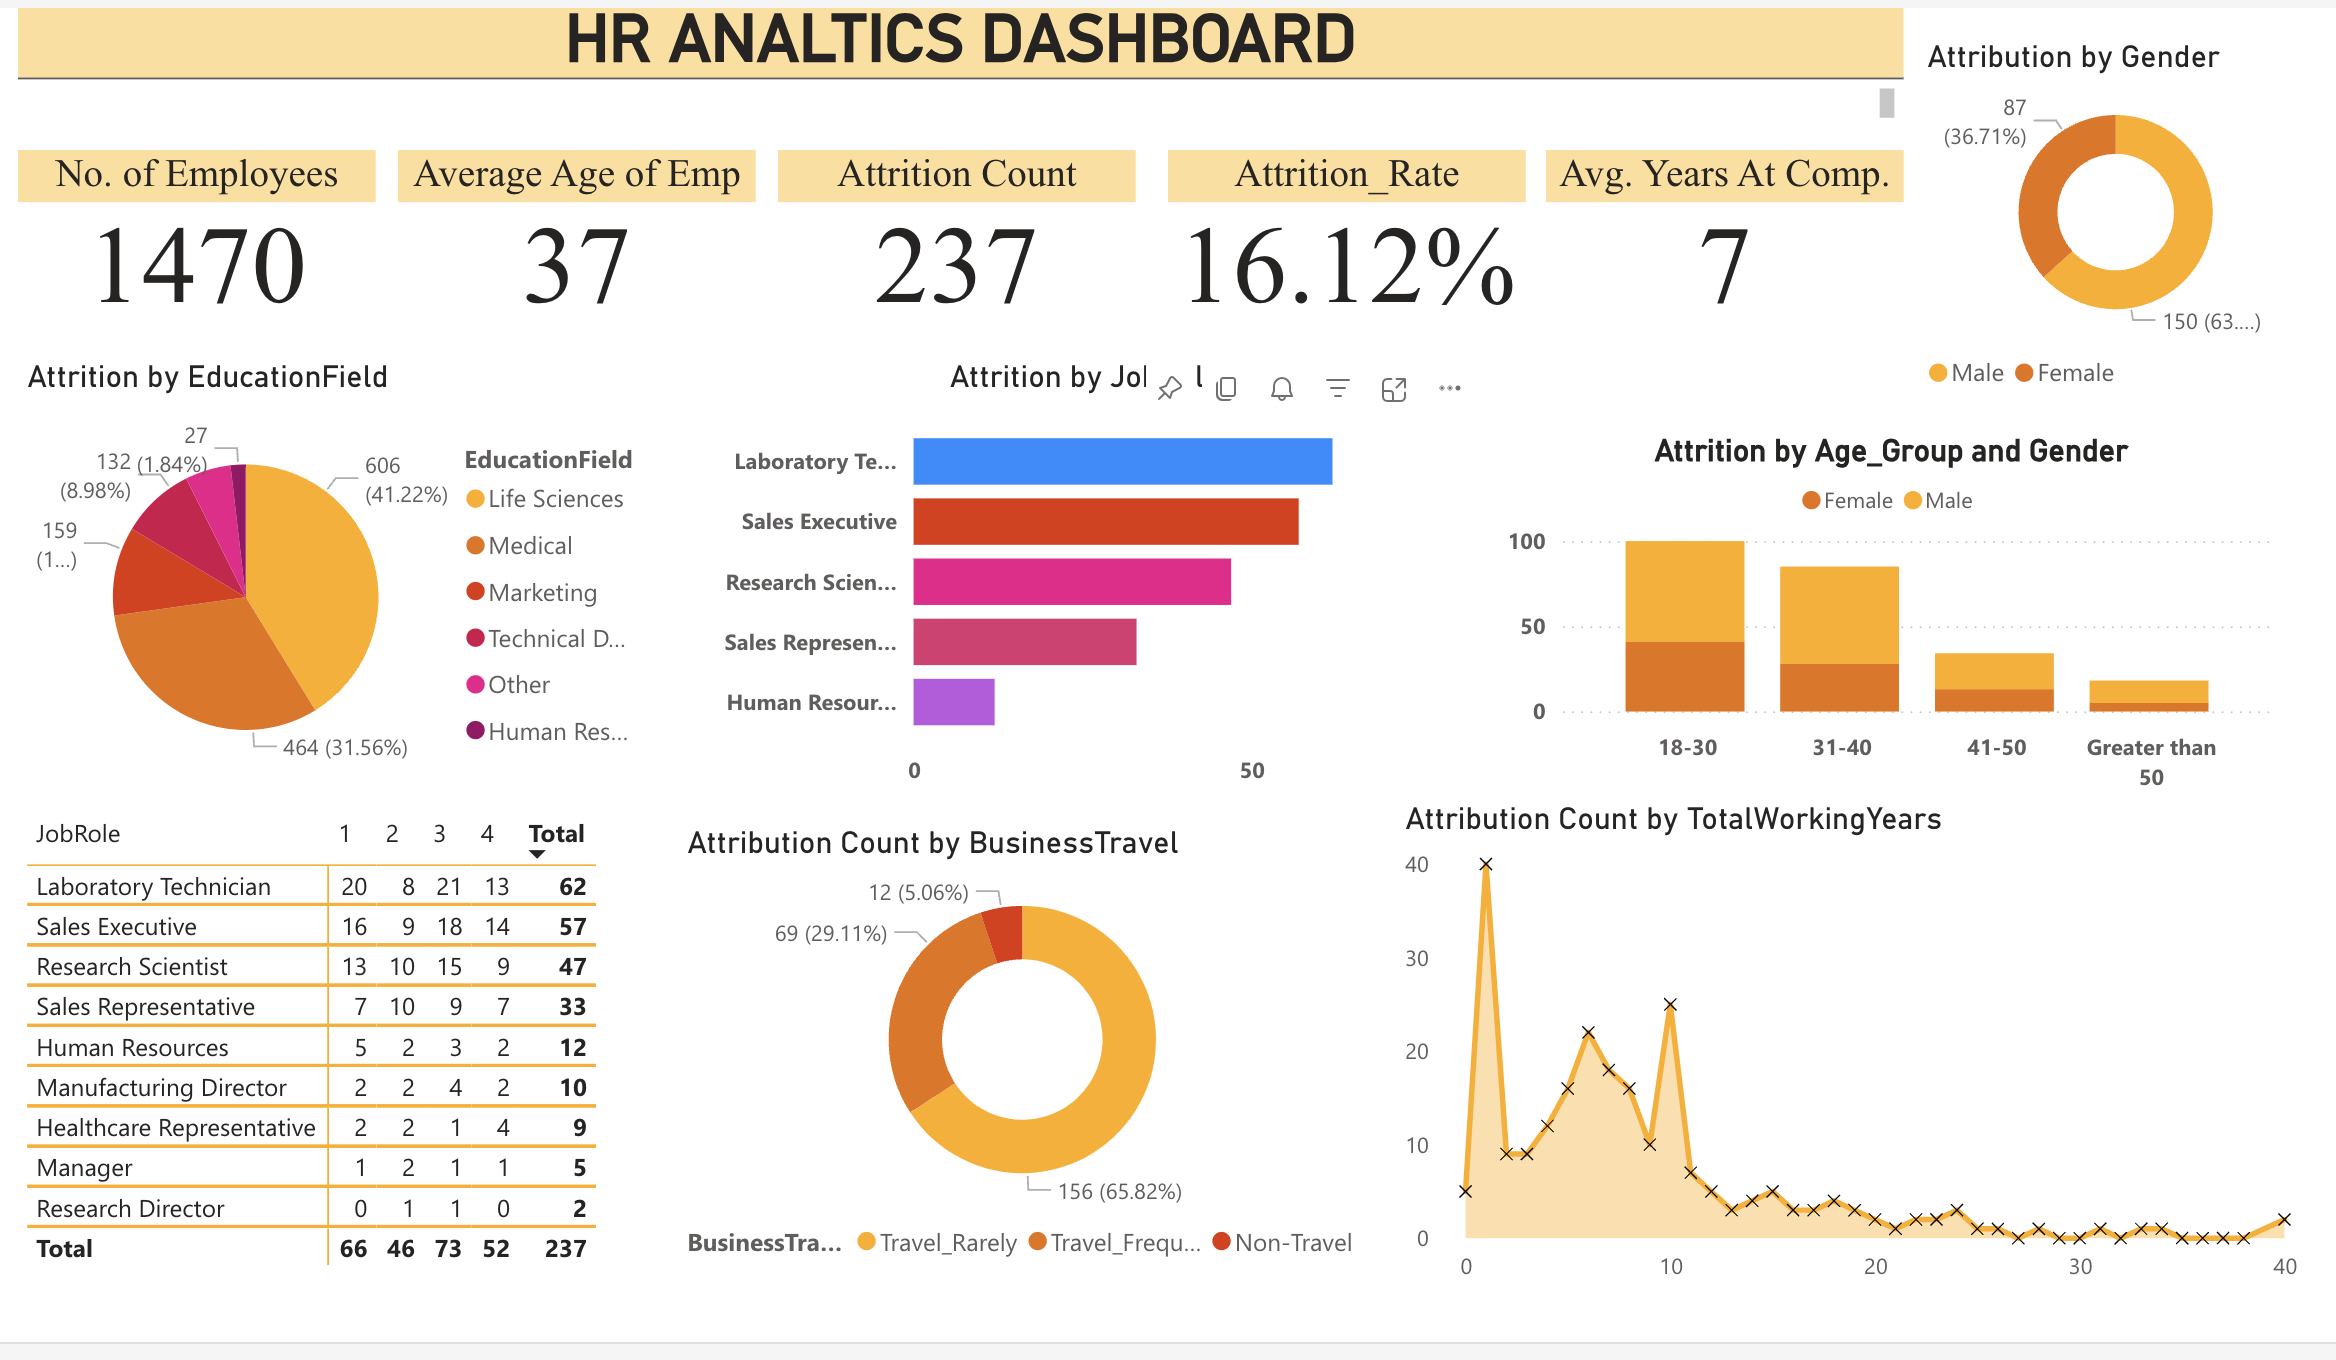

The dashboard page shown, as its layout file describes it:
{"tool":"powerbi","page":{"name":"Page 1","canvas":[1280,720],"ordinal":0},"visuals":[{"type":"card","title":"No. of Employees","fields":{"Values":["WA_Fn-UseC_-HR-Employee-Attrition.EmployeeCount"]},"box":[12.1,77.6,195.5,90.7],"z":0},{"type":"textbox","title":"HR ANALTICS DASHBOARD","box":[11.6,0,1030.3,63.9],"z":1},{"type":"card","title":"Average Age of Emp","fields":{"Values":["WA_Fn-UseC_-HR-Employee-Attrition.Average_Age"]},"box":[219.7,77.6,195.5,90.7],"z":2},{"type":"card","title":"Attrition Count","fields":{"Values":["Sum(WA_Fn-UseC_-HR-Employee-Attrition.Attribition_Count)"]},"box":[427.3,77.6,195.5,90.7],"z":3},{"type":"card","title":"Attrition_Rate","fields":{"Values":["WA_Fn-UseC_-HR-Employee-Attrition.Attribution_Percentage"]},"box":[640,77.6,195.5,90.7],"z":4},{"type":"card","title":"Avg. Years At  Comp.","fields":{"Values":["WA_Fn-UseC_-HR-Employee-Attrition.Avg_Working_Years"]},"box":[846.6,77.6,195.5,90.7],"z":5},{"type":"pieChart","title":"Attrition by EducationField","fields":{"Y":["CountNonNull(WA_Fn-UseC_-HR-Employee-Attrition.Attrition)"],"Category":["WA_Fn-UseC_-HR-Employee-Attrition.EducationField"]},"box":[11.6,194,351.9,241.6],"z":6},{"type":"pivotTable","fields":{"Rows":["WA_Fn-UseC_-HR-Employee-Attrition.JobRole"],"Columns":["WA_Fn-UseC_-HR-Employee-Attrition.JobSatisfaction"],"Values":["WA_Fn-UseC_-HR-Employee-Attrition.Attributi_Count"]},"box":[11.6,435.6,333.4,257.9],"z":7},{"type":"donutChart","title":"Attribution Count by BusinessTravel","fields":{"Y":["WA_Fn-UseC_-HR-Employee-Attrition.Attributi_Count"],"Category":["WA_Fn-UseC_-HR-Employee-Attrition.BusinessTravel"]},"box":[372.8,448.3,376.3,245.1],"z":8},{"type":"areaChart","title":"Attribution Count by TotalWorkingYears","fields":{"Category":["WA_Fn-UseC_-HR-Employee-Attrition.TotalWorkingYears"],"Y":["WA_Fn-UseC_-HR-Employee-Attrition.Attributi_Count"]},"box":[765.4,435.6,500.6,270.6],"z":9},{"type":"donutChart","title":"Attribution by Gender","fields":{"Y":["WA_Fn-UseC_-HR-Employee-Attrition.Attributi_Count"],"Category":["WA_Fn-UseC_-HR-Employee-Attrition.Gender"]},"box":[1050,18.6,216,199.8],"z":10},{"type":"clusteredBarChart","title":"Attrition by JobRole","fields":{"Y":["WA_Fn-UseC_-HR-Employee-Attrition.Attributi_Count"],"Category":["WA_Fn-UseC_-HR-Employee-Attrition.JobRole"]},"box":[381,194,427.4,241.6],"z":11},{"type":"columnChart","title":"Attrition  by Age_Group and Gender","fields":{"Y":["WA_Fn-UseC_-HR-Employee-Attrition.Attributi_Count"],"Category":["WA_Fn-UseC_-HR-Employee-Attrition.Age_Group"],"Series":["WA_Fn-UseC_-HR-Employee-Attrition.Gender"]},"box":[821.2,233.7,429.9,201.5],"z":12}]}

Visuals, with their boxes on the page's 1280x720 design canvas (x1, y1, x2, y2). These are canvas units, not pixel positions in the 2336x1360 screenshot, which may show the page scaled, cropped or inside an application window:
"No. of Employees" card: locate(12, 78, 208, 168)
"HR ANALTICS DASHBOARD" textbox: locate(12, 0, 1042, 64)
"Average Age of Emp" card: locate(220, 78, 415, 168)
"Attrition Count" card: locate(427, 78, 623, 168)
"Attrition_Rate" card: locate(640, 78, 836, 168)
"Avg. Years At  Comp." card: locate(847, 78, 1042, 168)
"Attrition by EducationField" pieChart: locate(12, 194, 364, 436)
pivotTable - WA_Fn-UseC_-HR-Employee-Attrition.JobRole x WA_Fn-UseC_-HR-Employee-Attrition.JobSatisfaction: locate(12, 436, 345, 694)
"Attribution Count by BusinessTravel" donutChart: locate(373, 448, 749, 693)
"Attribution Count by TotalWorkingYears" areaChart: locate(765, 436, 1266, 706)
"Attribution by Gender" donutChart: locate(1050, 19, 1266, 218)
"Attrition by JobRole" clusteredBarChart: locate(381, 194, 808, 436)
"Attrition  by Age_Group and Gender" columnChart: locate(821, 234, 1251, 435)
